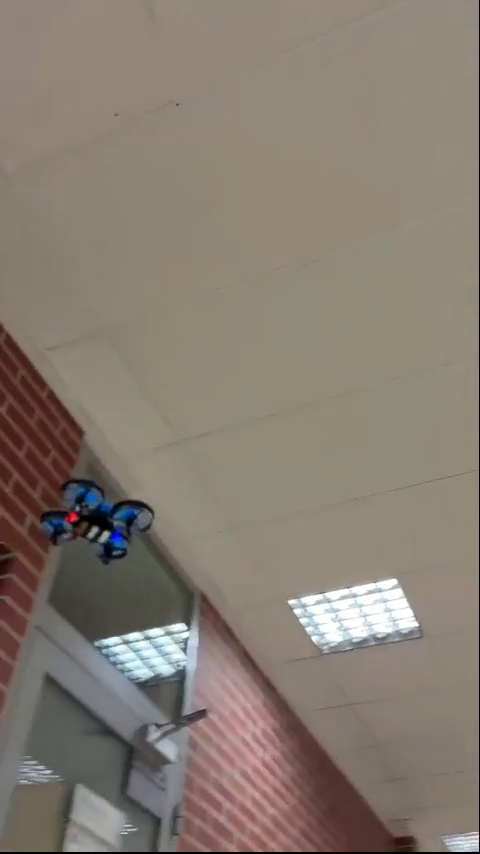drone: (44, 479, 158, 569)
